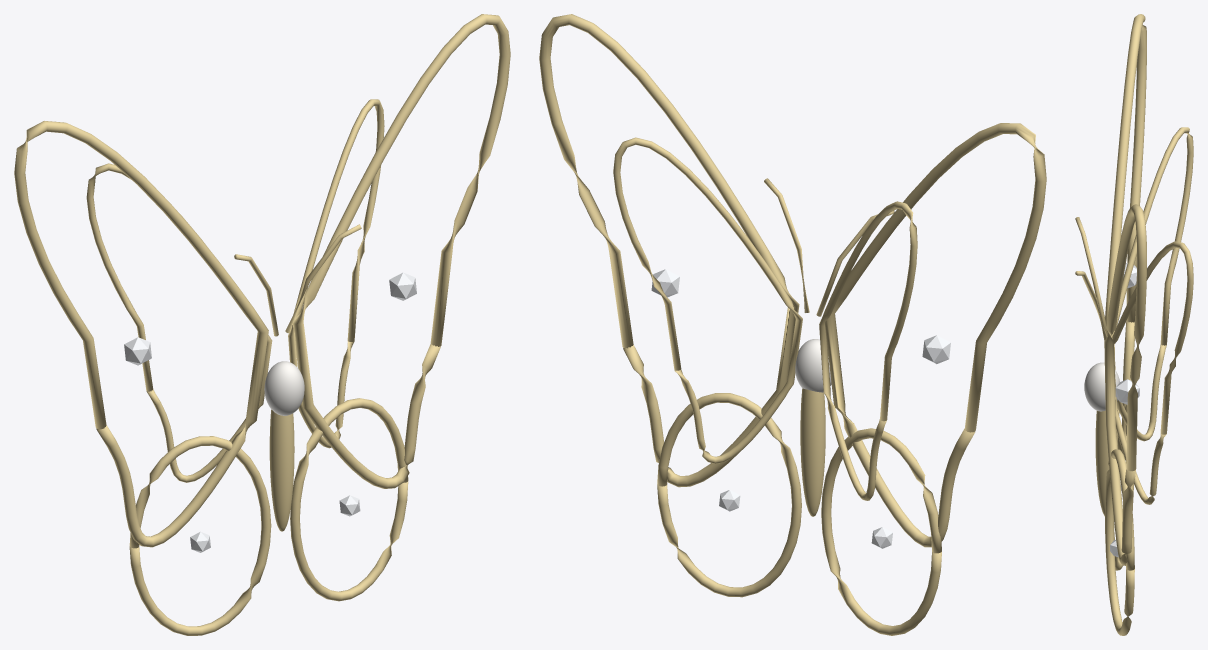
File: mariposa.glb
The picture shows the model from 3 angles, left to right: view 1: azimuth 30°, elevation 25°; view 2: azimuth 150°, elevation 25°; view 3: azimuth 270°, elevation 25°; orthographic projection. The views are drawn at different scales.
Parts seen in each view (by area): view 1: Mariposa_XVA_Editorial; view 2: Mariposa_XVA_Editorial; view 3: Mariposa_XVA_Editorial.
Boxes of the visible parts, x1,y1,x2,y2 form: Mariposa_XVA_Editorial: [14, 14, 510, 635]; Mariposa_XVA_Editorial: [539, 14, 1046, 635]; Mariposa_XVA_Editorial: [1075, 14, 1193, 635].
Bounding box in the file's own units: 1.75 × 1.83 × 0.403.
